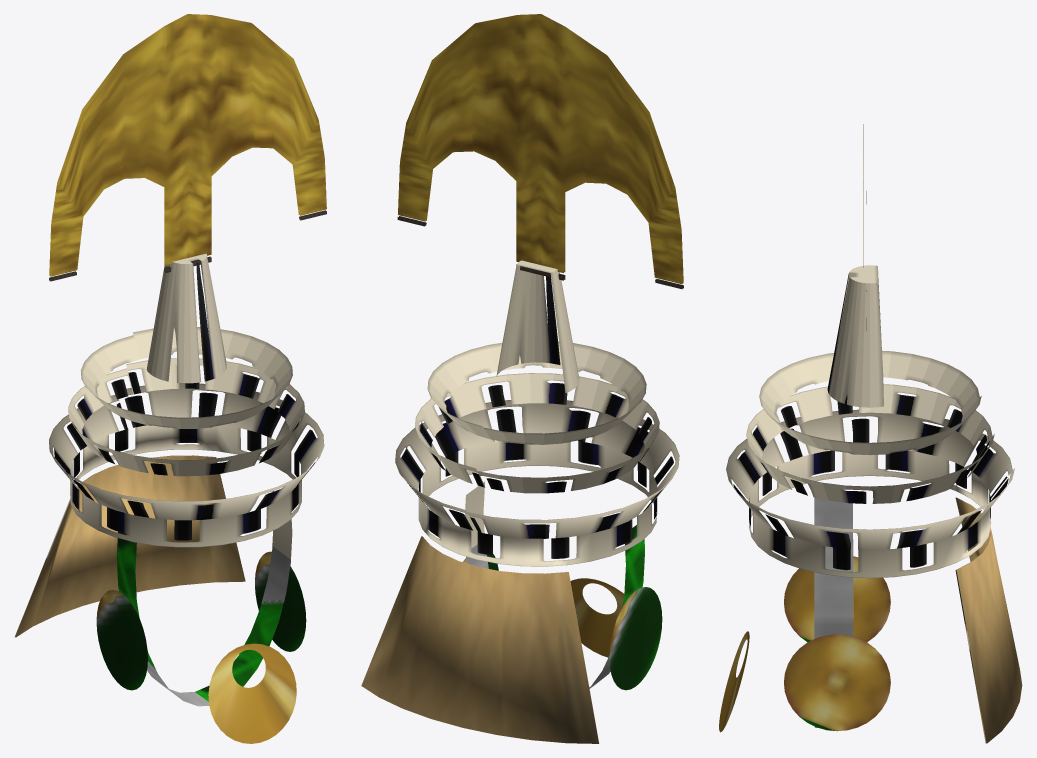
The model's file is helmet_moch_champ_1.dae.
3 renders of one model, left to right at view 1: azimuth 30°, elevation 25°; view 2: azimuth 150°, elevation 25°; view 3: azimuth 270°, elevation 25°, orthographic. The views are drawn at different scales.
Parts seen in each view (by area): view 1: helmet_moch_champ_1; view 2: helmet_moch_champ_1; view 3: helmet_moch_champ_1.
Part boxes in pixels (<box>): helmet_moch_champ_1: <box>14,14,326,743</box>; helmet_moch_champ_1: <box>361,14,683,743</box>; helmet_moch_champ_1: <box>719,124,1022,743</box>.
Size of the model in its own units: 0.7099 by 0.6518 by 1.66.
